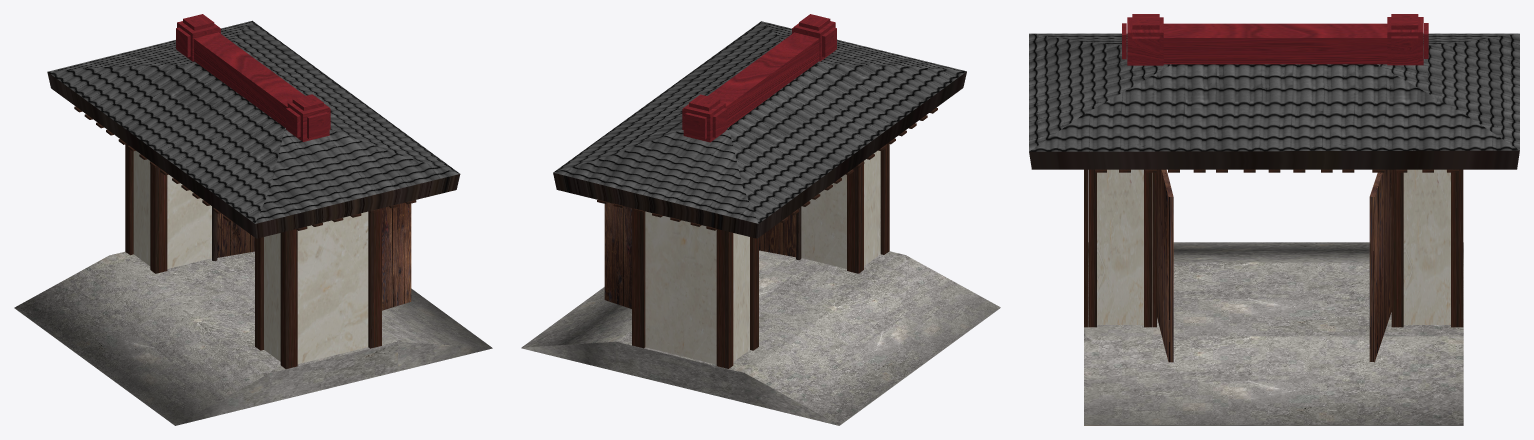
File: main_gate.fbx
3 renders of one model, left to right at view 1: azimuth 30°, elevation 25°; view 2: azimuth 150°, elevation 25°; view 3: azimuth 270°, elevation 25°, orthographic. The views are drawn at different scales.
Visible parts, largest first — view 1: group12; view 2: group12; view 3: group12.
Boxes of the visible parts, x1,y1,x2,y2 form: group12: [14, 14, 492, 425]; group12: [521, 14, 1000, 425]; group12: [1029, 14, 1519, 425].
Size of the model in its own units: 14.9 by 11.98 by 16.91.
8 materials, 7 textured.
